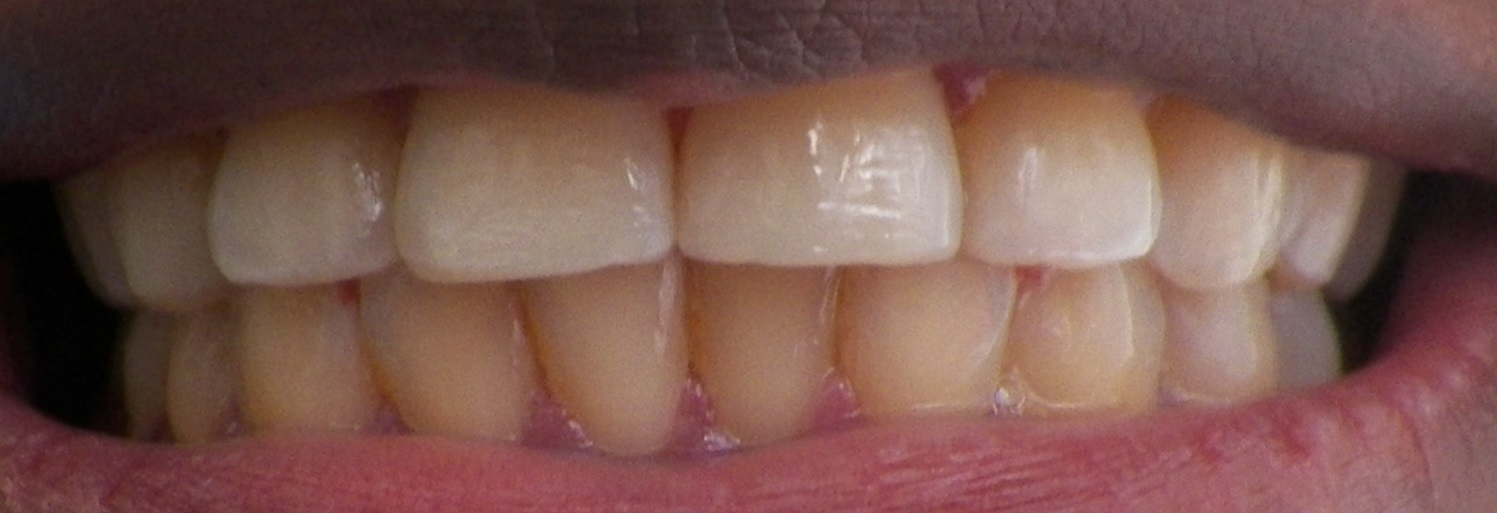boca: (77, 65, 1431, 454)
